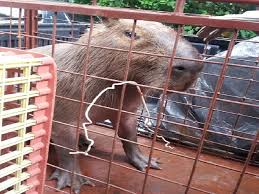capivara: (32, 18, 205, 189)
